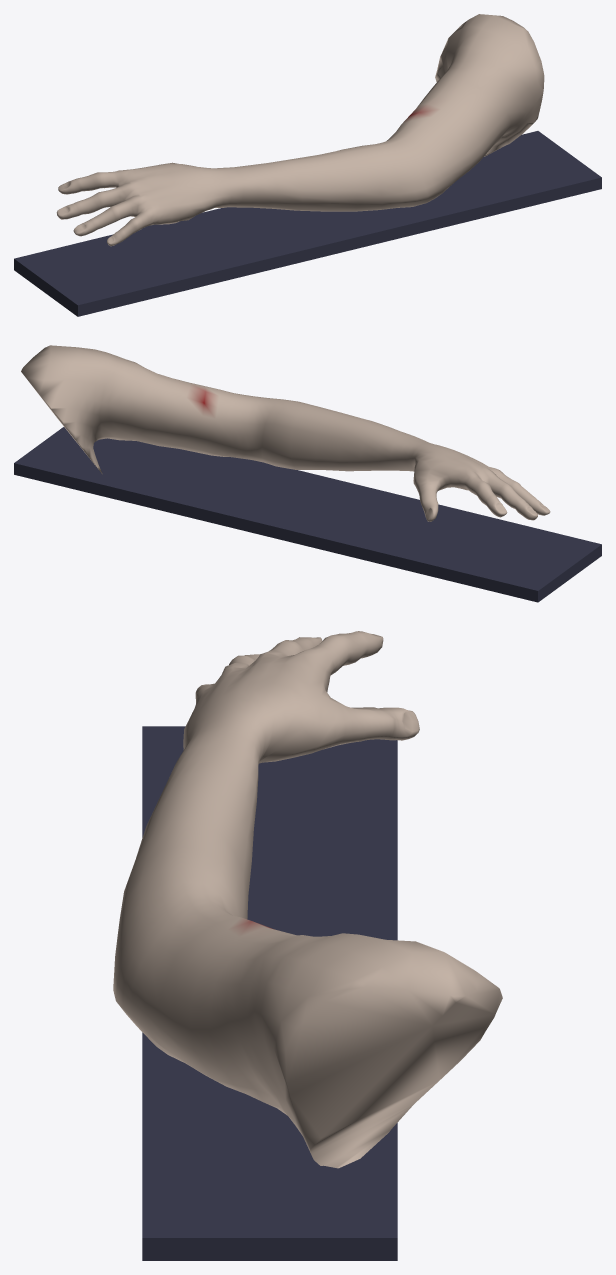
Rendered from maniqui_brazo.glb.
3 renders of one model, top to bottom at view 1: azimuth 30°, elevation 25°; view 2: azimuth 150°, elevation 25°; view 3: azimuth 270°, elevation 25°, orthographic. The views are drawn at different scales.
Visible parts, largest first — view 1: Maniqui_Brazo; view 2: Maniqui_Brazo; view 3: Maniqui_Brazo.
Boxes of the visible parts, <box> form: Maniqui_Brazo: <box>14,14,601,316</box>; Maniqui_Brazo: <box>14,345,601,602</box>; Maniqui_Brazo: <box>113,631,502,1260</box>.
Size of the model in its own units: 0.948 by 0.2315 by 0.3052.
